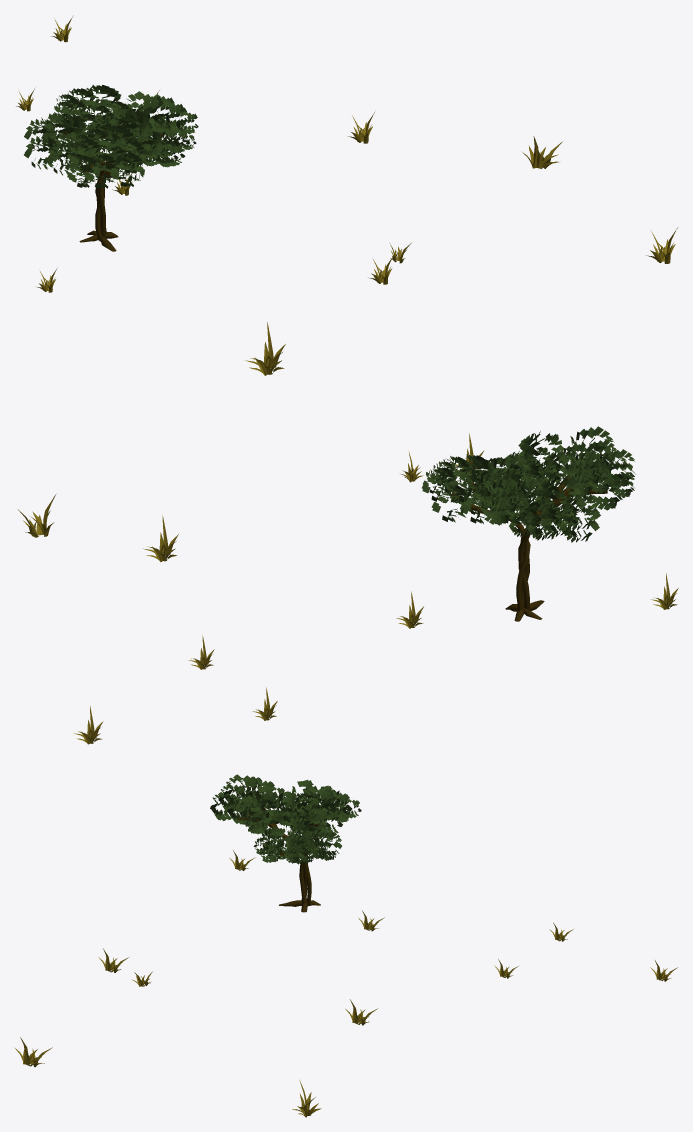
The model's file is assets_terreno.FBX.
3 renders of one model, top to bottom at view 1: azimuth 30°, elevation 25°; view 2: azimuth 150°, elevation 25°; view 3: azimuth 270°, elevation 25°, orthographic. The views are drawn at different scales.
Parts seen in each view (by area): view 1: Line003, Box015, Box025, Box045, Box055, Box019, Box020, Box050, Box035, plant004, Box049; view 2: Line003, Box025, Box015, Box055, Box045, Box035, Box050, Box040; view 3: Line003, Box035, Box015, Box055.
Boxes of the visible parts, <box> form: Line003: <box>63,128,178,251</box>; Box015: <box>92,125,137,169</box>; Box025: <box>77,85,122,129</box>; Box045: <box>41,111,86,156</box>; Box055: <box>107,107,152,152</box>; Box019: <box>110,152,144,186</box>; Box020: <box>84,154,119,188</box>; Box050: <box>24,134,59,169</box>; Box035: <box>125,91,164,137</box>; plant004: <box>521,136,562,168</box>; Box049: <box>47,140,80,175</box>; Line003: <box>451,475,607,621</box>; Box025: <box>484,454,531,504</box>; Box015: <box>566,426,614,476</box>; Box055: <box>517,431,569,479</box>; Box045: <box>534,475,586,524</box>; Box035: <box>445,454,495,504</box>; Box050: <box>559,505,599,542</box>; Box040: <box>431,484,471,522</box>; Line003: <box>238,808,321,912</box>; Box035: <box>290,813,327,848</box>; Box015: <box>223,774,261,812</box>; Box055: <box>251,785,284,823</box>.
Size of the model in its own units: 1631 by 506 by 2001.
